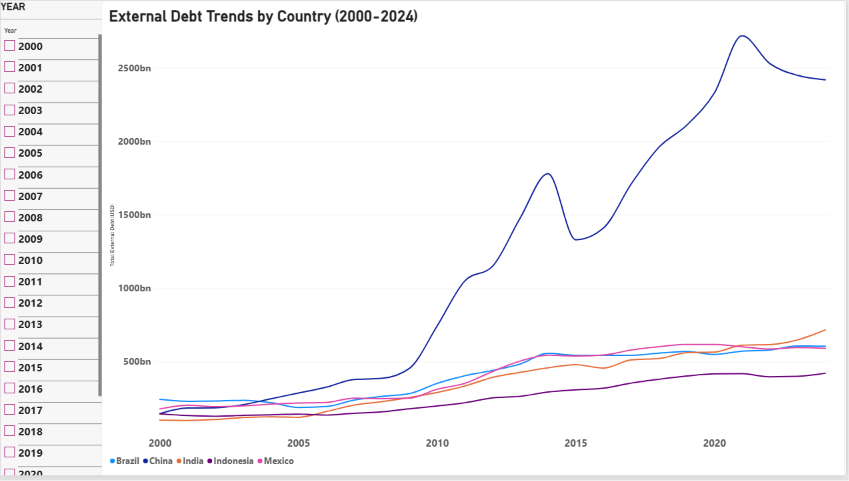

What the dashboard file says about the page in this screenshot:
{"tool":"powerbi","page":{"name":"Debt  Trends Analysis","canvas":[1920,1080],"ordinal":1},"visuals":[{"type":"lineChart","fields":{"Category":["international_debt_cleaned.Year"],"Series":["international_debt_cleaned.Country Name"],"Y":["Sum(international_debt_cleaned.Total_Debt)"]},"box":[247.2,0,1425,1080.6],"z":0},{"type":"slicer","title":"YEAR","fields":{"Values":["international_debt_cleaned.Year"]},"box":[0,0,230,1080],"z":1}]}

Visuals, with their boxes on the page's 1920x1080 design canvas (x1, y1, x2, y2). These are canvas units, not pixel positions in the 849x481 screenshot, which may show the page scaled, cropped or inside an application window:
lineChart - international_debt_cleaned.Year x international_debt_cleaned.Country Name: (247,0,1672,1081)
"YEAR" slicer: (0,0,230,1080)
